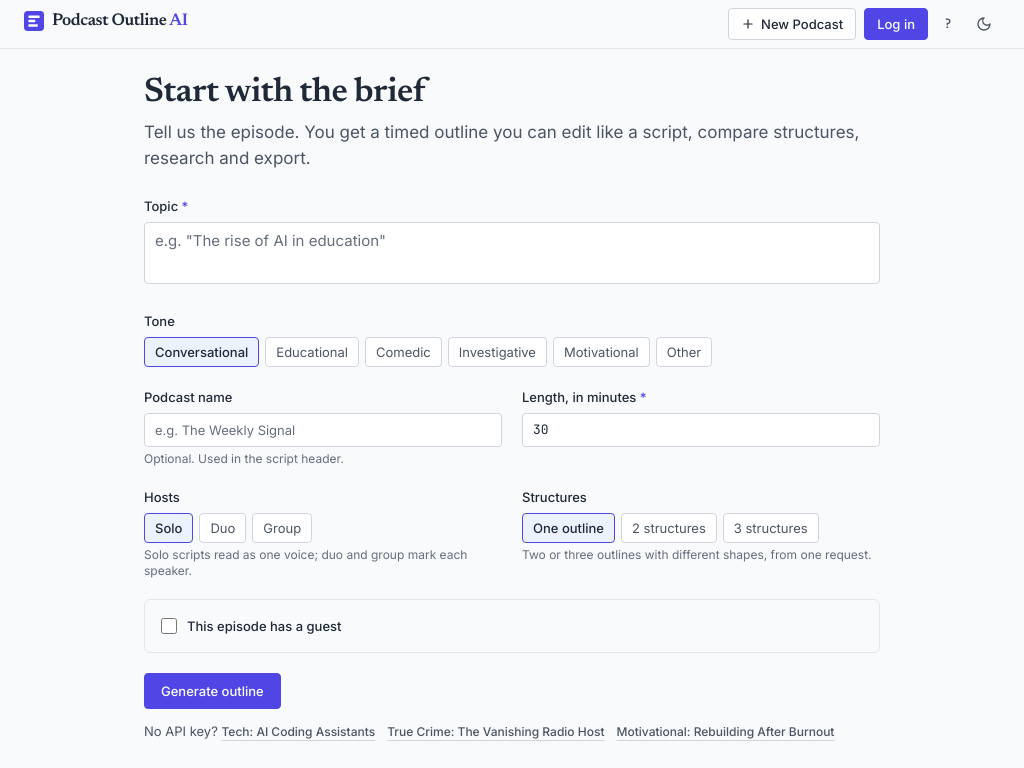
Scenario: falling back to the ordinary request (generation itself never breaks) › shows the plain request's own error if the fallback fails too
Type "Lighthouses" into the text box labelled "Topic *" at (512, 253), box [144, 222, 880, 284]
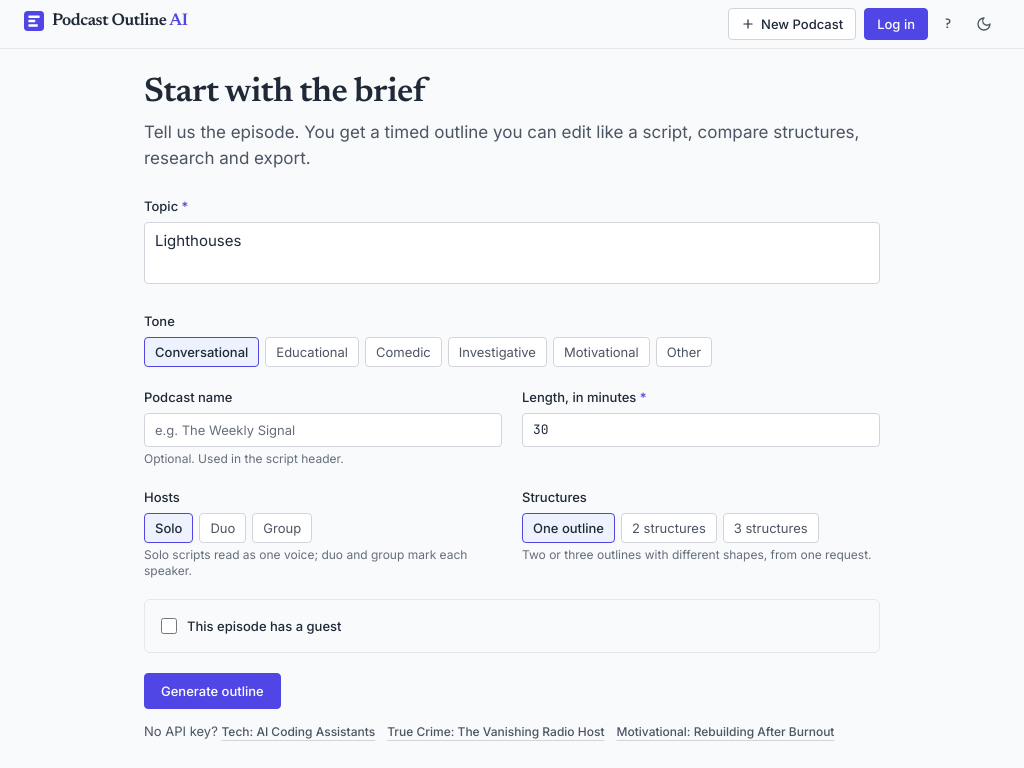
Click the button "Generate outline" at (212, 691), box [144, 673, 281, 709]
(page scrolled)
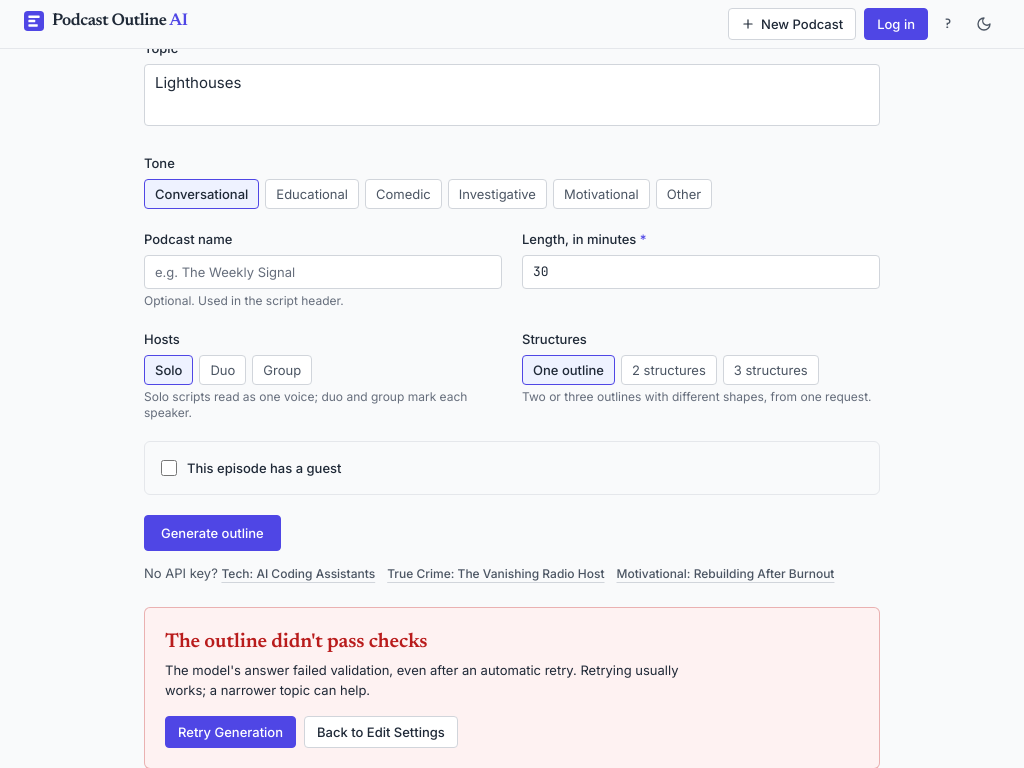
Expected: the heading "The outline didn't pass checks" is shown, [165, 632, 428, 652]
